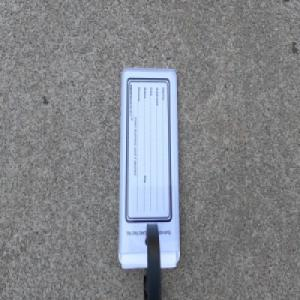LuggageTag: (117, 65, 180, 300)
